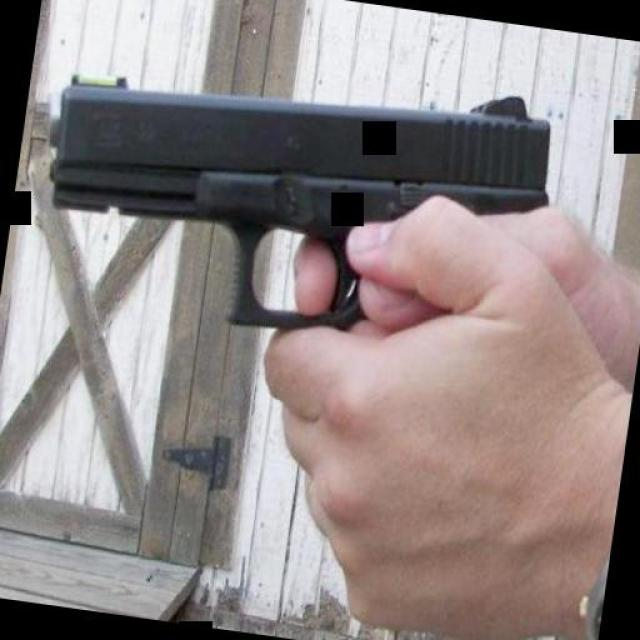gun: (25, 26, 563, 366)
